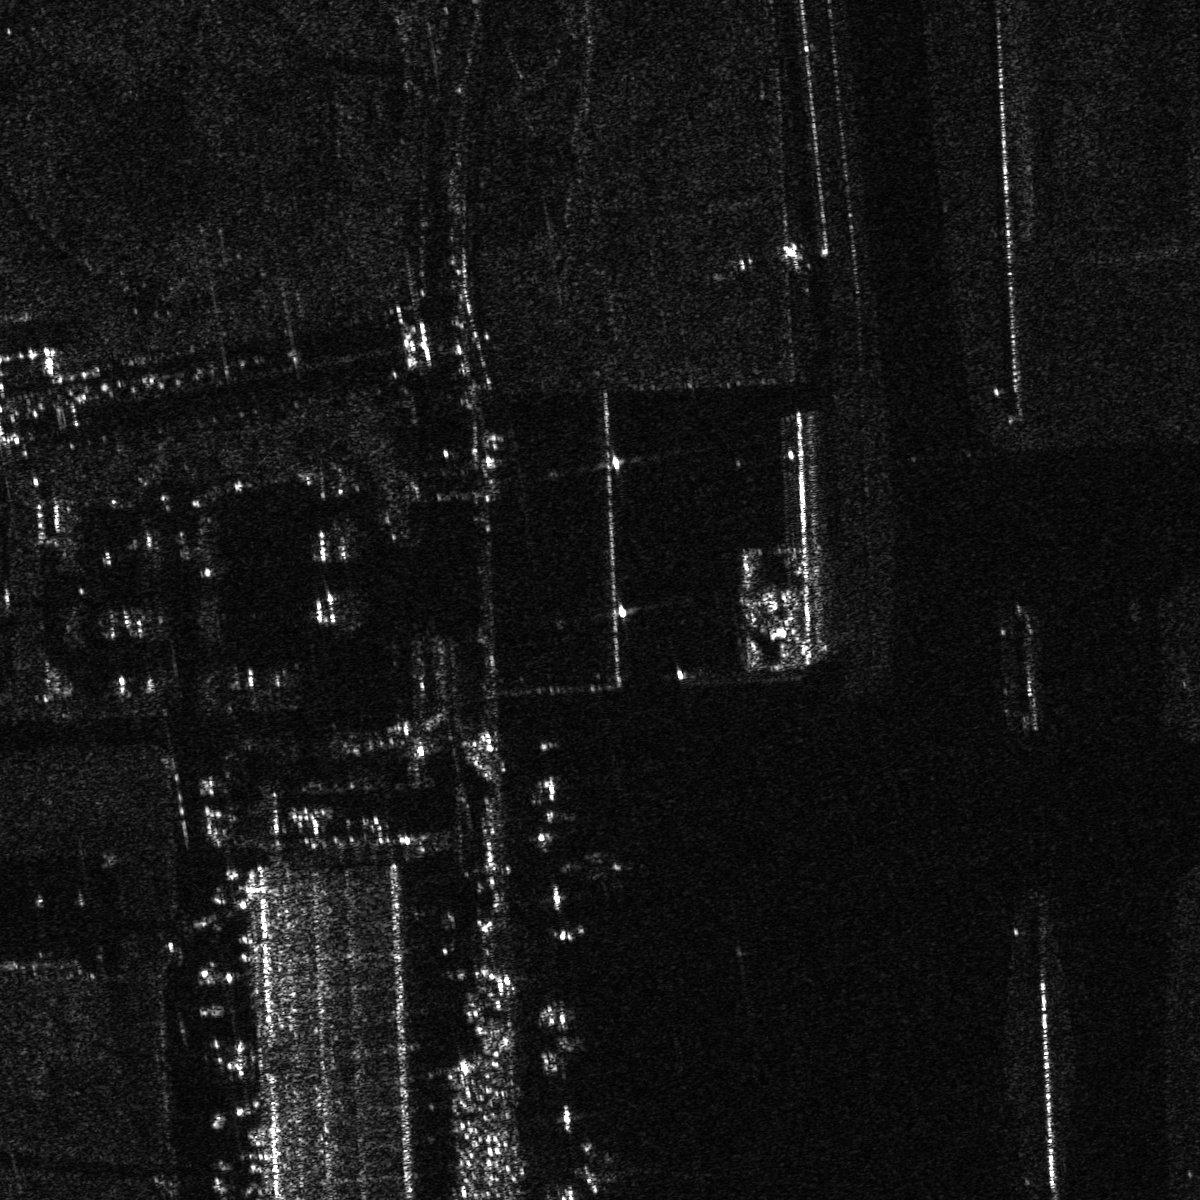Boeing737: (556, 847, 630, 889)
